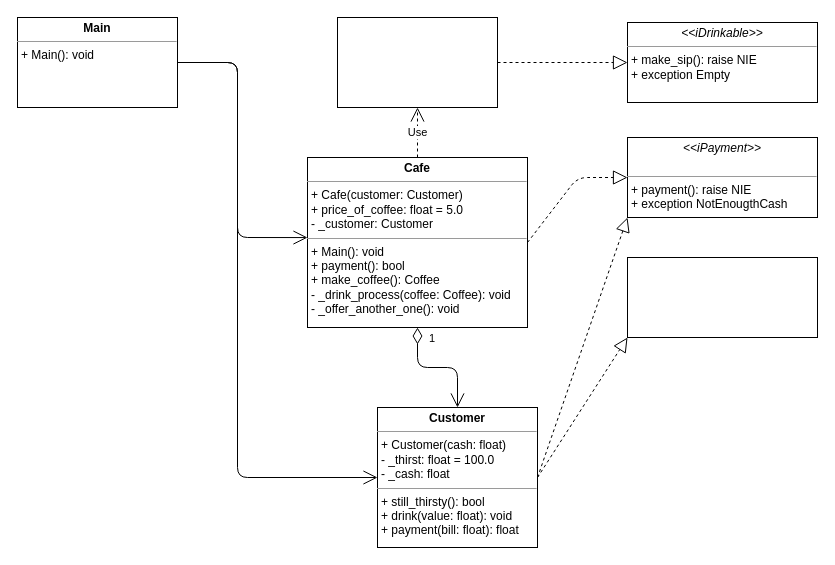
This 835x565 diagram has some shape labels left out. Each missing label, with the centre of its shape:
"<<iDrink>> + drink(): raise NIE" belongs at point 722,297.
"Coffee - _value: float = 50.0 + make_sip(): float" belongs at point 417,62.
